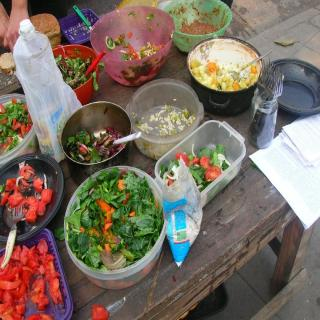Salad: (64, 167, 166, 271), (104, 11, 166, 59), (190, 54, 260, 92), (54, 44, 104, 90), (0, 98, 34, 155)
